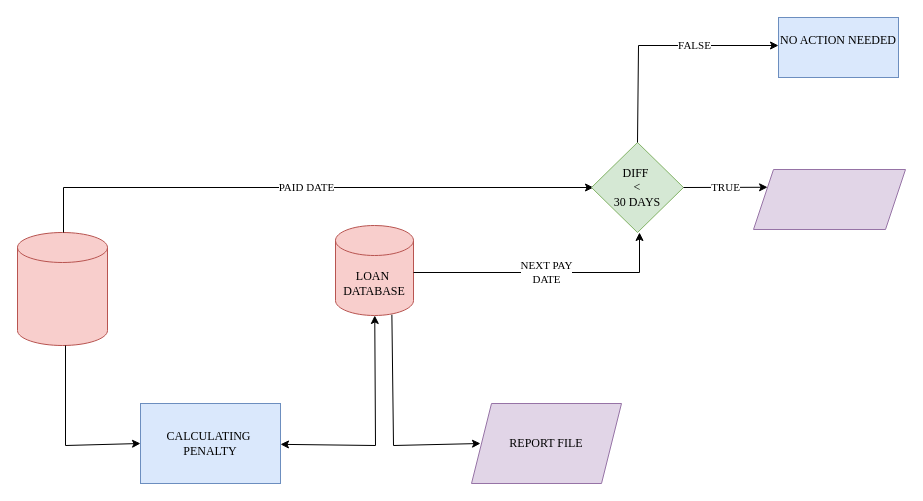
The diagram is 923 pixels wide and 501 high, and some of its shapes have lost their labels. The centre of each missing label's shape, as x and y in pixels:
DAILY REPORT FILE CSV: point (829, 199)
PAYMENT FILE: point (62, 289)
